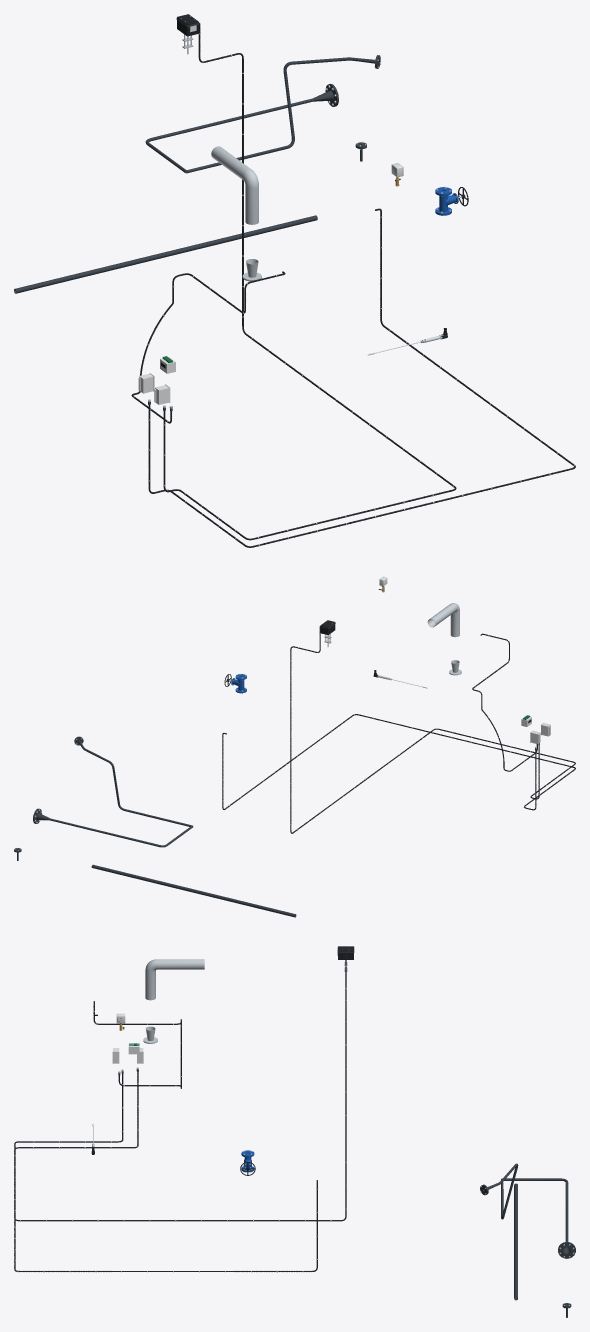
3 renders of one model, top to bottom at view 1: azimuth 30°, elevation 25°; view 2: azimuth 150°, elevation 25°; view 3: azimuth 270°, elevation 25°, orthographic. The views are drawn at different scales.
Parts seen in each view (by area): view 1: mod_eco_drive_cable / black, wiring_pump_2 / black, bottom_discharge / dark, steam_rise / steel, tds_to_fv / dark, tds_without_fv / dark, wiring_lp200 / black; view 2: mod_eco_drive_cable / black, wiring_pump_2 / black, bottom_discharge / dark, steam_rise / steel, tds_to_fv / dark, tds_without_fv / dark; view 3: mod_eco_drive_cable / black, wiring_pump_2 / black, steam_rise / steel, tds_to_fv / dark, wiring_lp200 / black.
Part boxes in pixels (left/top/right/bottom): mod_eco_drive_cable / black: left=163, top=23, right=456, bottom=540; wiring_pump_2 / black: left=148, top=208, right=575, bottom=547; bottom_discharge / dark: left=14, top=215, right=317, bottom=293; steam_rise / steel: left=211, top=146, right=258, bottom=224; tds_to_fv / dark: left=145, top=83, right=338, bottom=173; tds_without_fv / dark: left=185, top=55, right=380, bottom=173; wiring_lp200 / black: left=131, top=271, right=285, bottom=423; mod_eco_drive_cable / black: left=290, top=626, right=575, bottom=833; wiring_pump_2 / black: left=222, top=714, right=575, bottom=810; bottom_discharge / dark: left=91, top=864, right=296, bottom=917; steam_rise / steel: left=427, top=603, right=459, bottom=637; tds_to_fv / dark: left=33, top=808, right=193, bottom=847; tds_without_fv / dark: left=74, top=736, right=192, bottom=826; mod_eco_drive_cable / black: left=14, top=956, right=346, bottom=1221; wiring_pump_2 / black: left=14, top=1071, right=317, bottom=1271; steam_rise / steel: left=145, top=959, right=204, bottom=1000; tds_to_fv / dark: left=504, top=1178, right=575, bottom=1258; wiring_lp200 / black: left=93, top=1001, right=181, bottom=1088.
Size of the model in its own units: 4.84 by 3.13 by 6.08.
